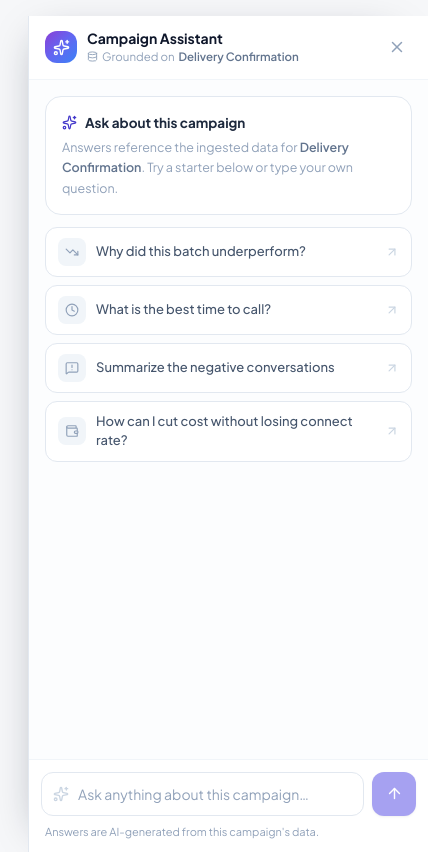
ChatPanel — empty state & suggestions › clicking a suggestion sends it through streamChat with the batch ids and renders both turns
Click the button "What is the best time to call?". click: [228, 310]
box: left=45, top=285, right=412, bottom=335
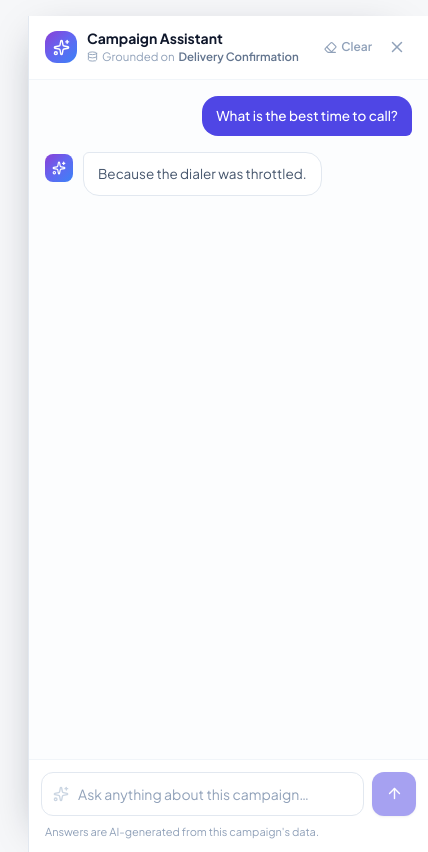
Expected: the text "What is the best time to call?" is shown, left=202, top=96, right=412, bottom=136
Now the text "Because the dialer was throttled." is shown, box left=98, top=163, right=307, bottom=185
